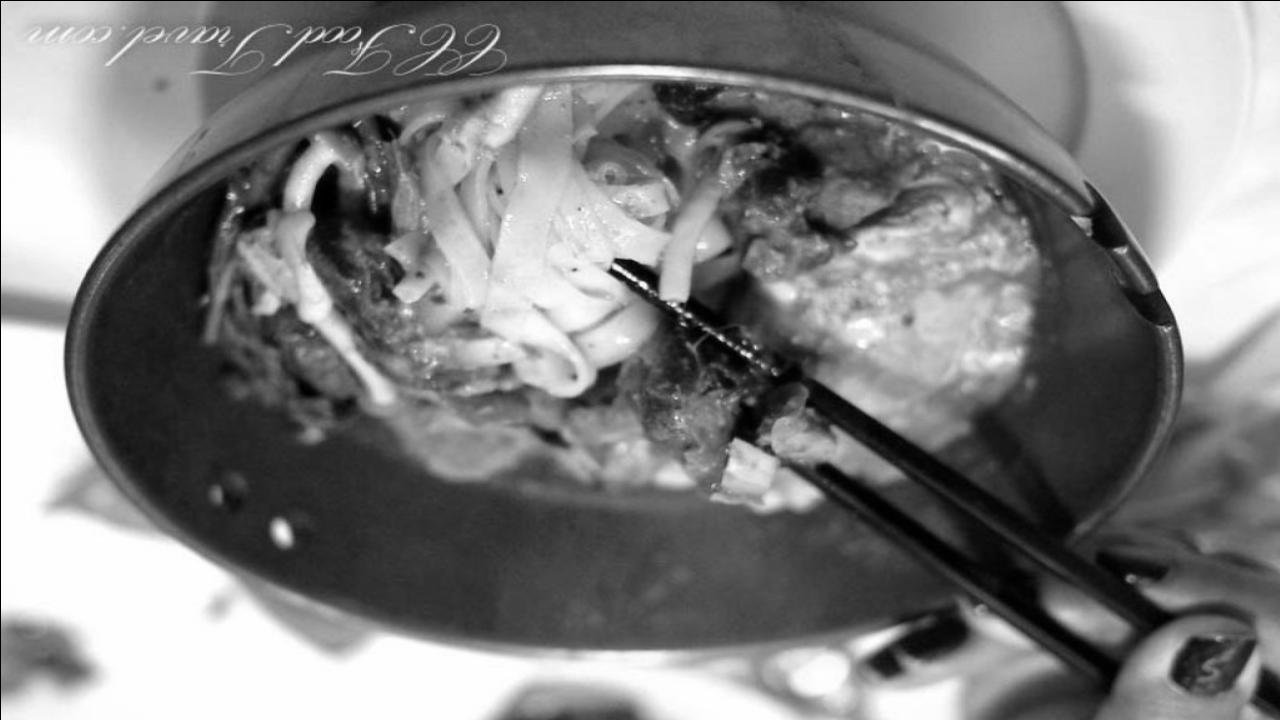chopstick: (605, 259, 1165, 693)
